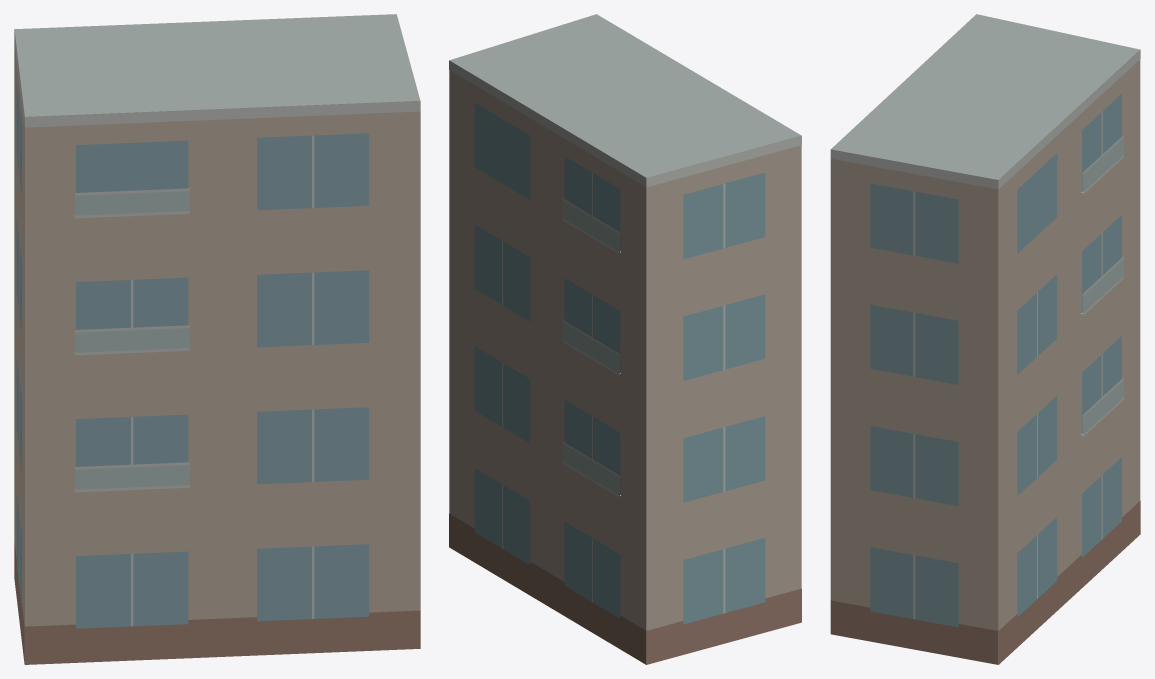
File: survey-upis-32732233.glb
3 views of the same model, side by side, from view 1: azimuth 30°, elevation 25°; view 2: azimuth 150°, elevation 25°; view 3: azimuth 270°, elevation 25° (orthographic). The views are drawn at different scales.
Visible parts, largest first — view 1: survey-upis-32732233.tmp; view 2: survey-upis-32732233.tmp; view 3: survey-upis-32732233.tmp.
Boxes of the visible parts, <box> form: survey-upis-32732233.tmp: <box>14,14,420,664</box>; survey-upis-32732233.tmp: <box>449,14,801,664</box>; survey-upis-32732233.tmp: <box>830,14,1140,664</box>.
Size of the model in its own units: 9.19 by 12.5 by 7.24.
